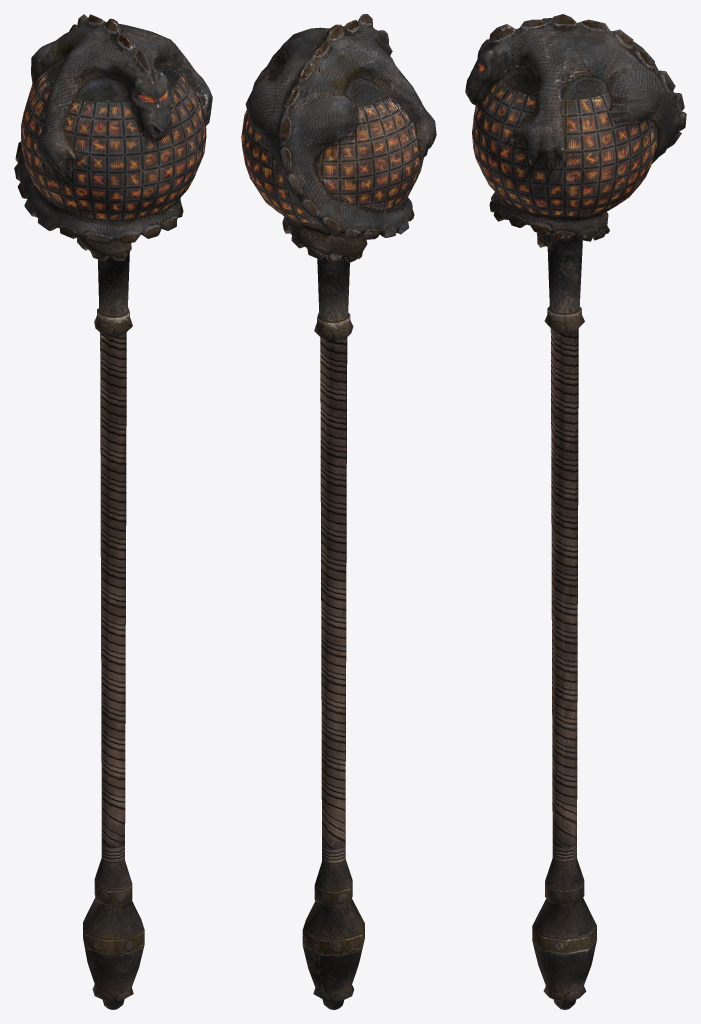
File: MKing_Bar.FBX
3 renders of one model, left to right at view 1: azimuth 30°, elevation 25°; view 2: azimuth 150°, elevation 25°; view 3: azimuth 270°, elevation 25°, orthographic.
Visible parts, largest first — view 1: lowStick; view 2: lowStick; view 3: lowStick.
Boxes of the visible parts, x1,y1,x2,y2 form: lowStick: (14, 14, 212, 1009); lowStick: (241, 14, 436, 1009); lowStick: (465, 14, 686, 1009).
Bounding box in the file's own units: 0.4021 × 2.19 × 0.4434.
